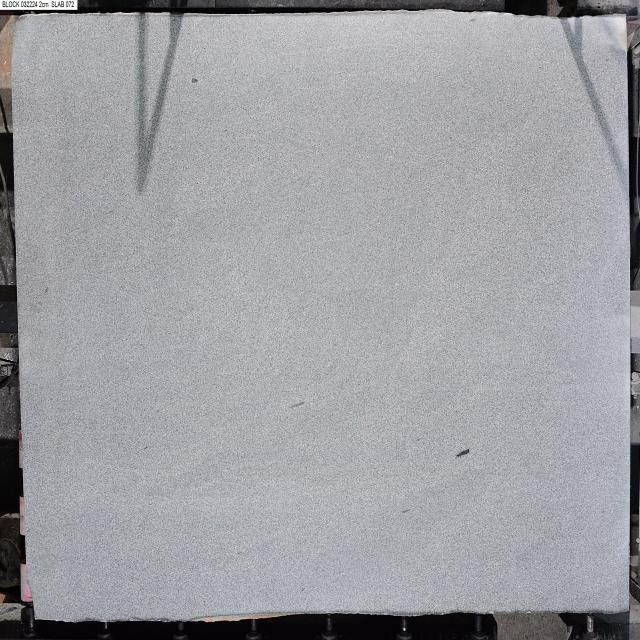chapa: (12, 12, 630, 621)
